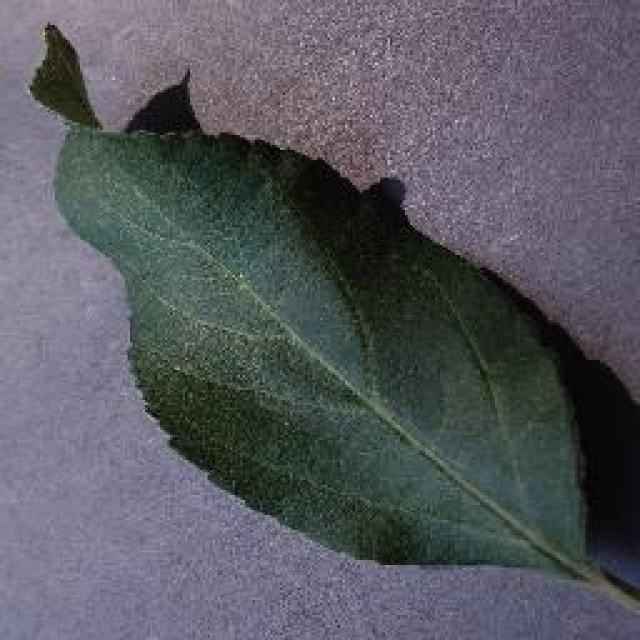apple scab disease: (25, 17, 633, 605)
